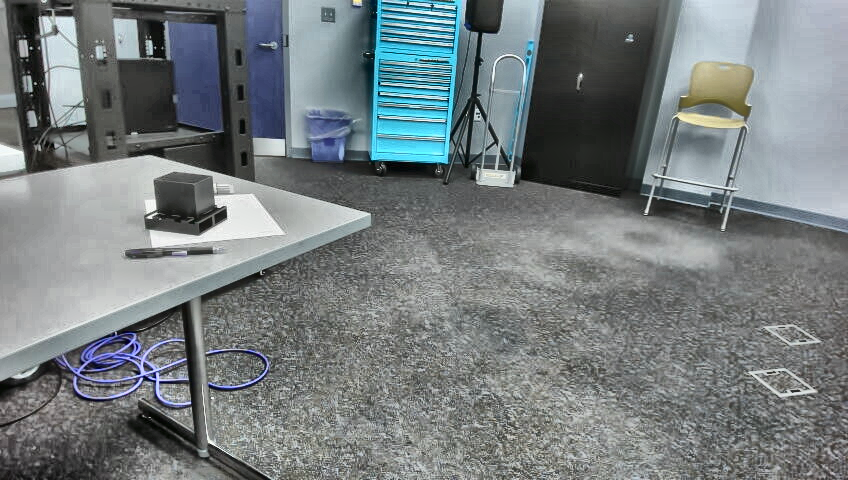black pallet: (143, 166, 230, 239)
